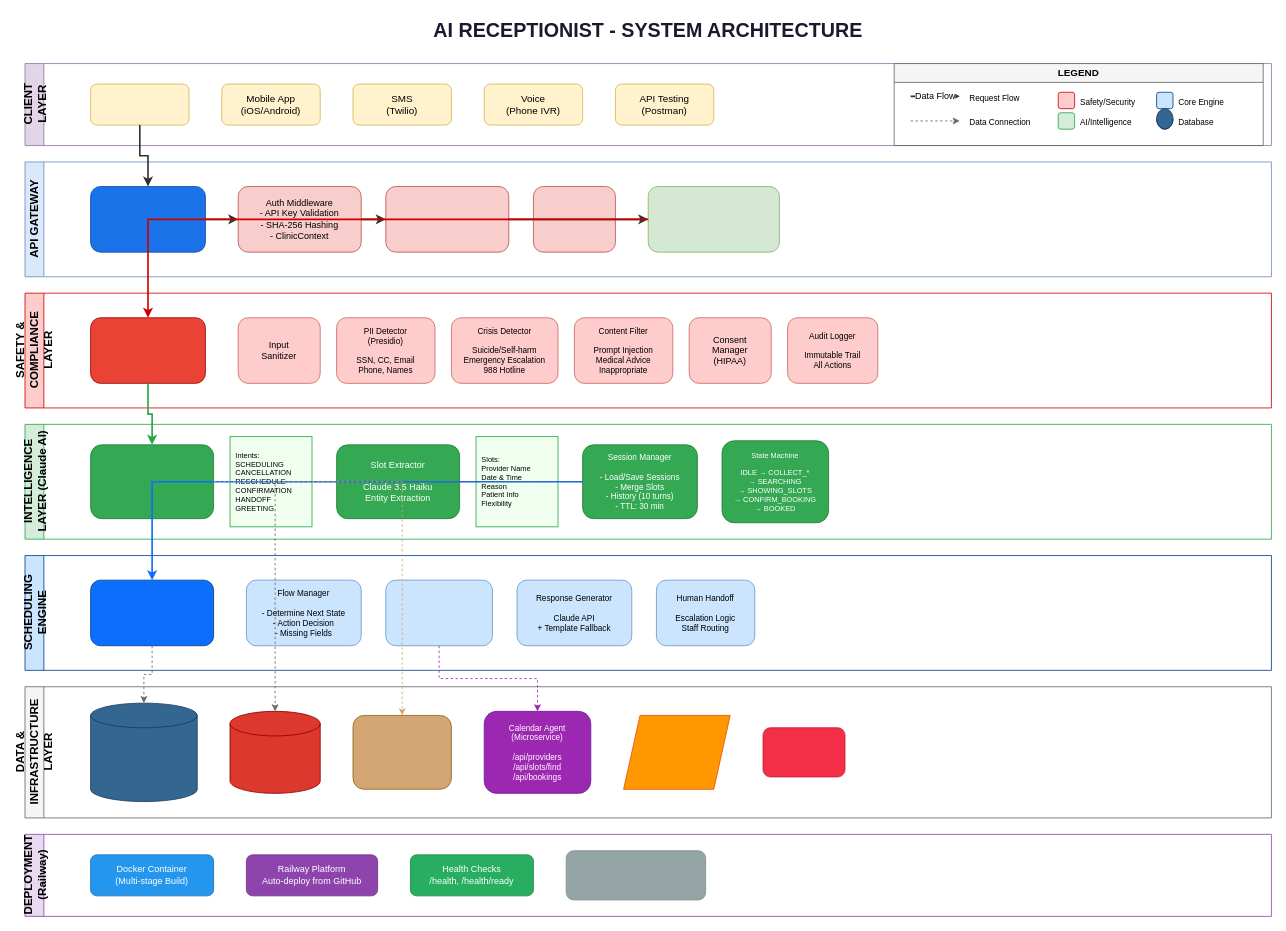
This 1286x931 diagram has some shape labels left out. The shapes that lost their labels are listed below. From the top down, each one's centre as x and y in pixels, then its label:
At pixel 139 104: "Web App (React/Next.js)".
At pixel 147 219: "FastAPI Application (Uvicorn)".
At pixel 447 219: "Rate Limiter - Sliding Window - Per-Clinic Limits - Redis Backed".
At pixel 574 219: "CORS Middleware".
At pixel 713 219: "API Routes POST /api/v1/chat GET /health POST /webhooks/*".
At pixel 147 350: "Safety Pipeline Orchestrator (pipeline.py)".
At pixel 152 481: "Intent Classifier Claude 3.5 Haiku ↓ Sonnet Fallback".
At pixel 152 612: "Scheduling Engine (Orchestrator) engine.py".
At pixel 438 612: "Calendar Agent Client HTTP → Microservice".
At pixel 143 752: "PostgreSQL 16 Clinics Providers Patients Appointments Sessions AuditLogs".
At pixel 274 752: "Redis 7 Sessions Auth Cache Rate Limits".
At pixel 401 752: "Claude API (Anthropic) Haiku: Intent Sonnet: Fallback".
At pixel 676 752: "EHR Systems DrChrono Epic Cerner Google Cal".
At pixel 803 752: "Twilio SMS/Voice".
At pixel 635 875: "Environment Vars DATABASE_URL, REDIS_URL ANTHROPIC_API_KEY".
